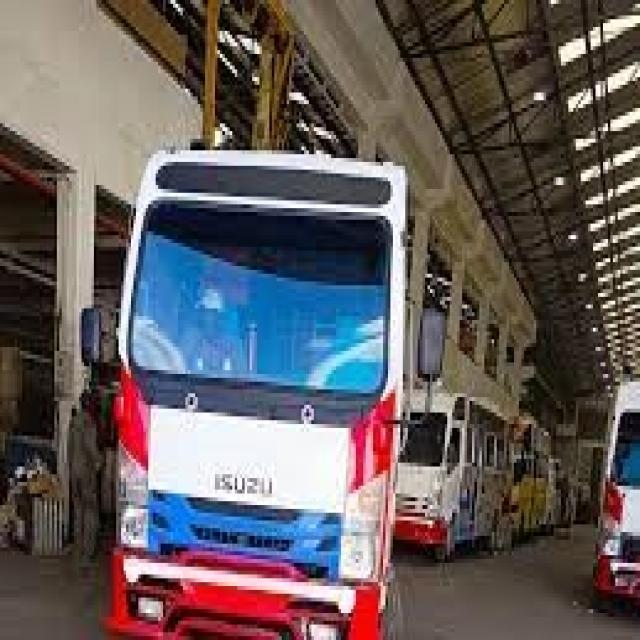bus: (51, 80, 464, 640)
